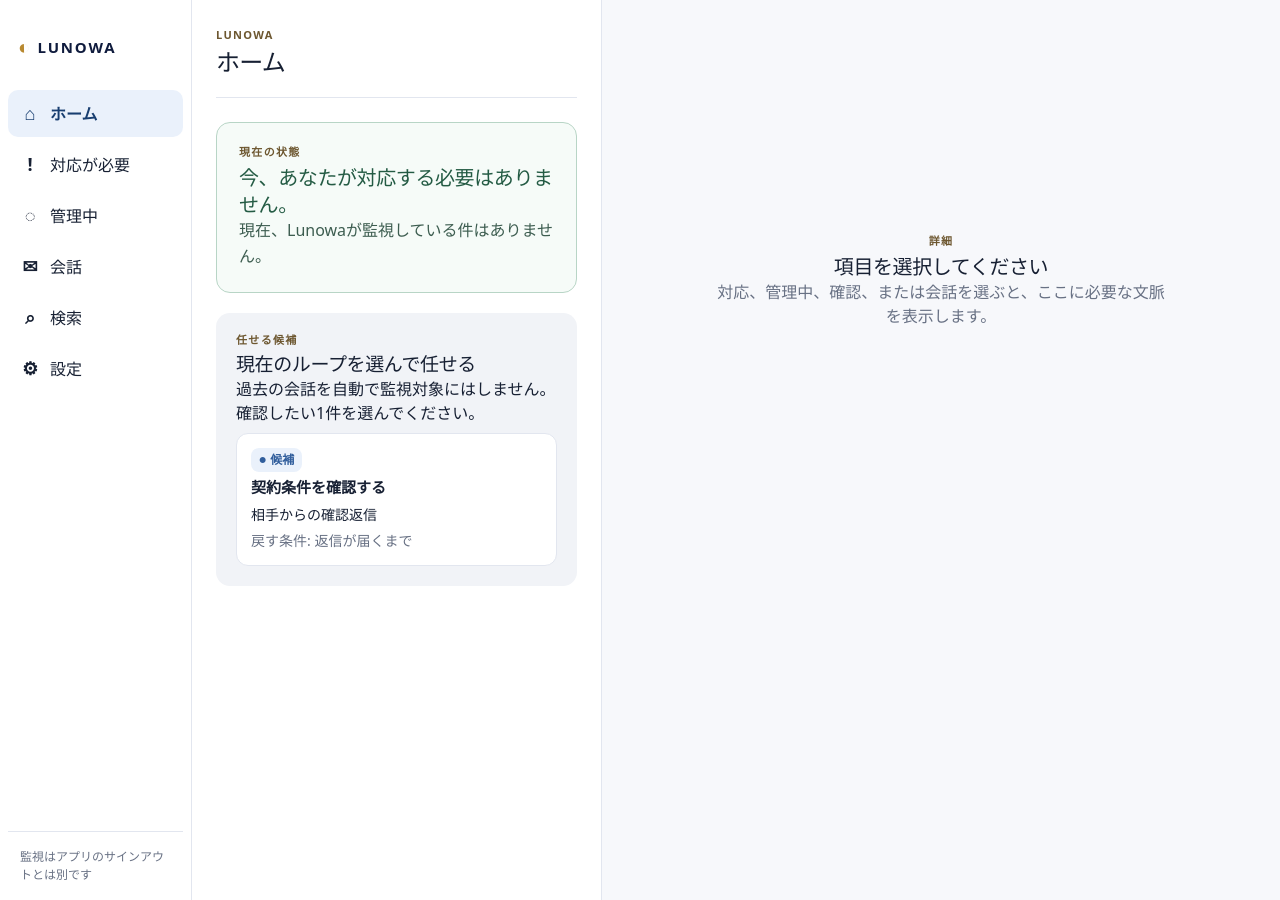
Test: G40 live attention surfaces › offers one explicit delegation path for an inactive accepted loop
Click the button "候補 契約条件を確認する 相手からの確認返信 戻す条件: 返信が届くまで".
click(277, 460)  # box [236, 433, 557, 566]
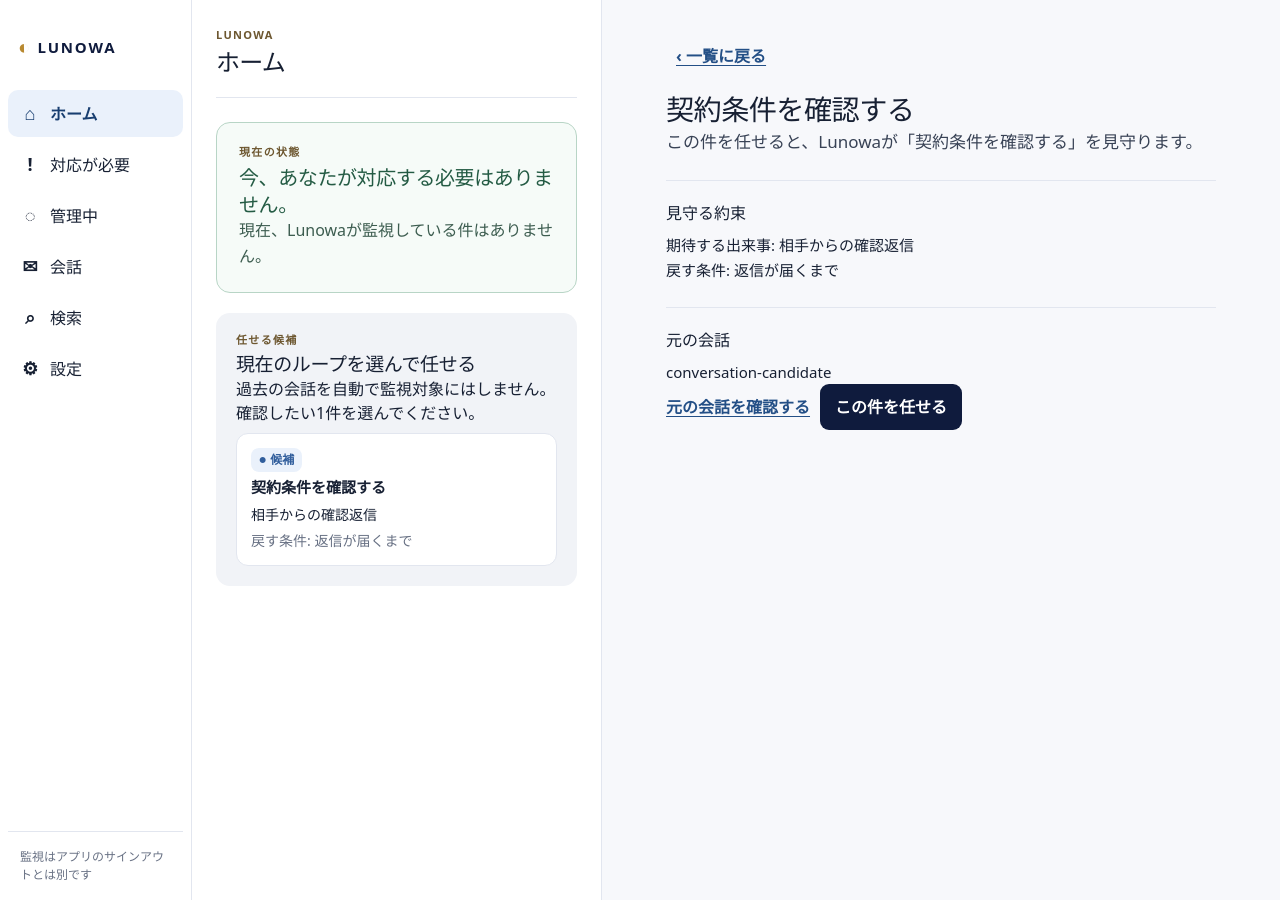
Now the text "期待する出来事: 相手からの確認返信" is shown, box [666, 235, 914, 255]
Click the button "この件を任せる".
click(891, 407)  # box [820, 384, 962, 430]
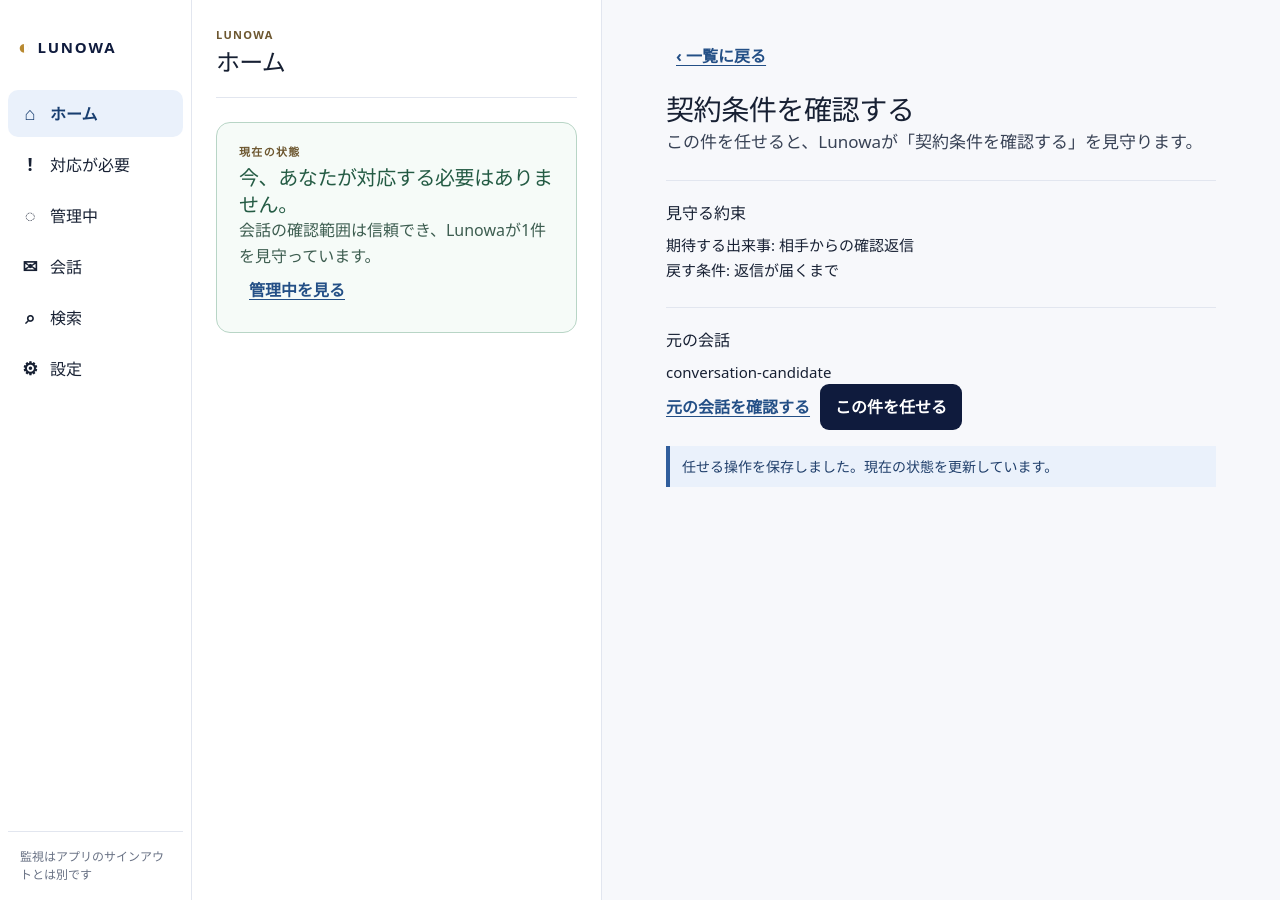
Now the text "任せる操作を保存しました。現在の状態を更新しています。" is shown, box [666, 446, 1216, 487]
